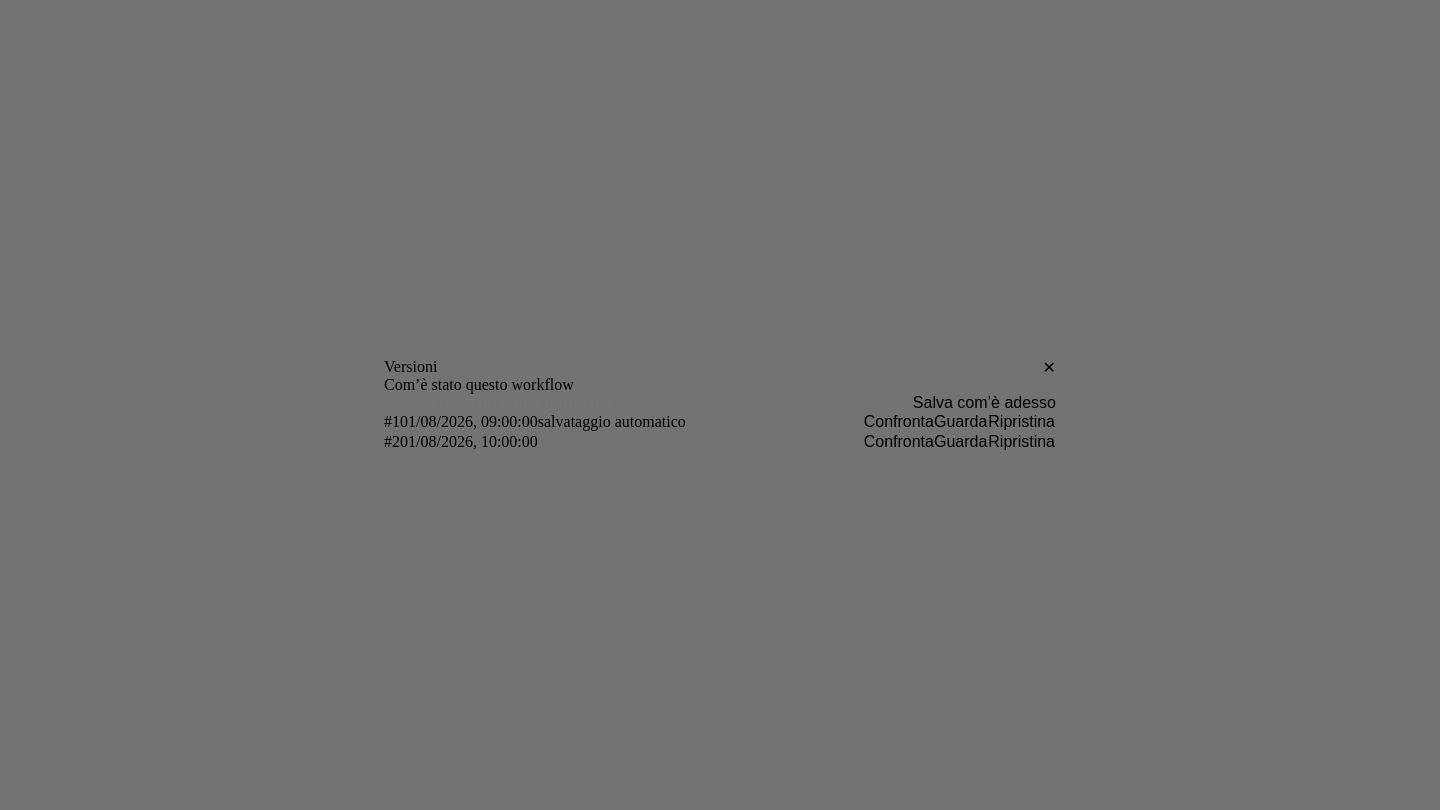
il confronto fra versioni › due versioni identiche lo dicono, invece di mostrare tre righe vuote
Click the button "Confronta" in the row of "01/08/2026, 09:00:00": (899,422) left=864, top=412, right=934, bottom=432
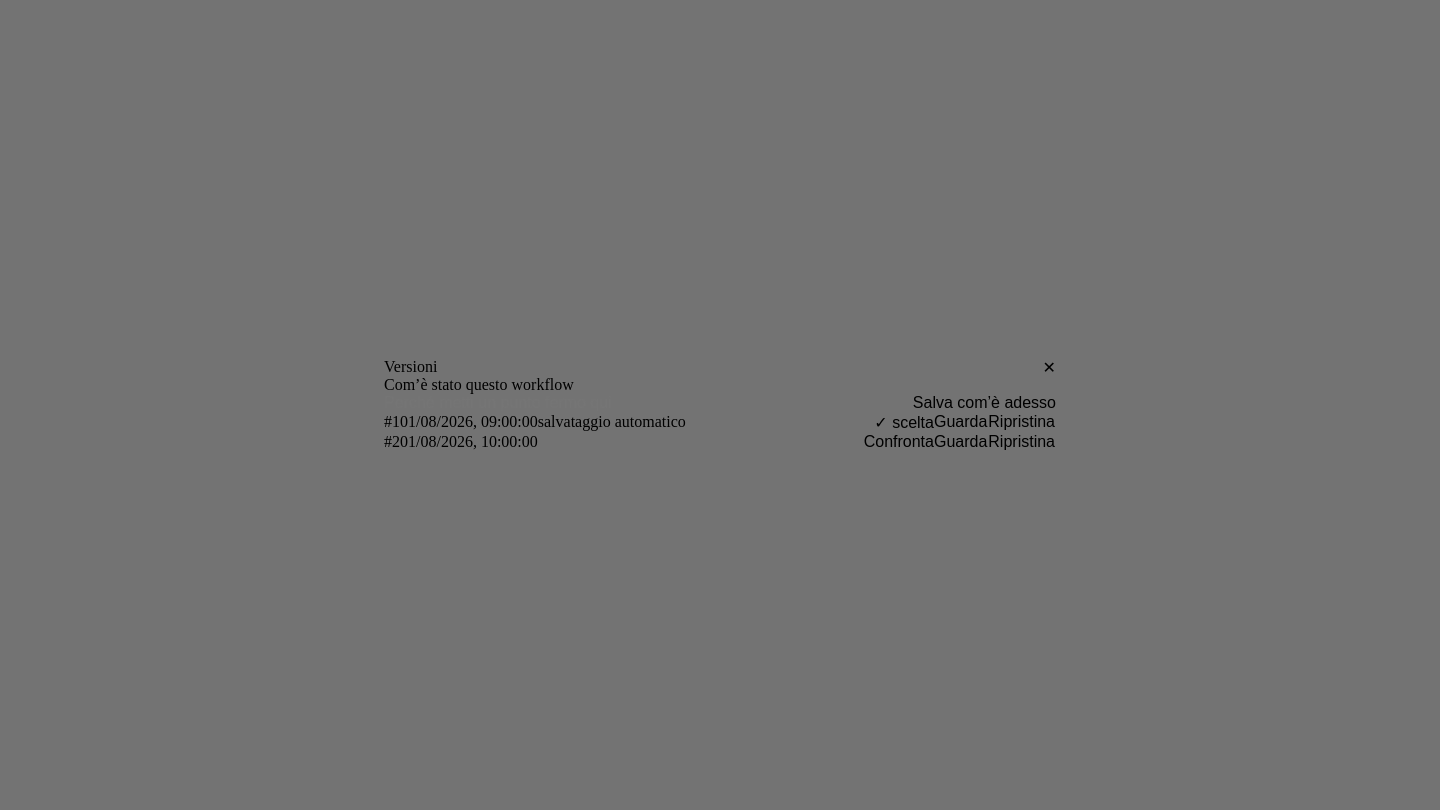
Click the button "Confronta": (899,442) left=864, top=432, right=934, bottom=452
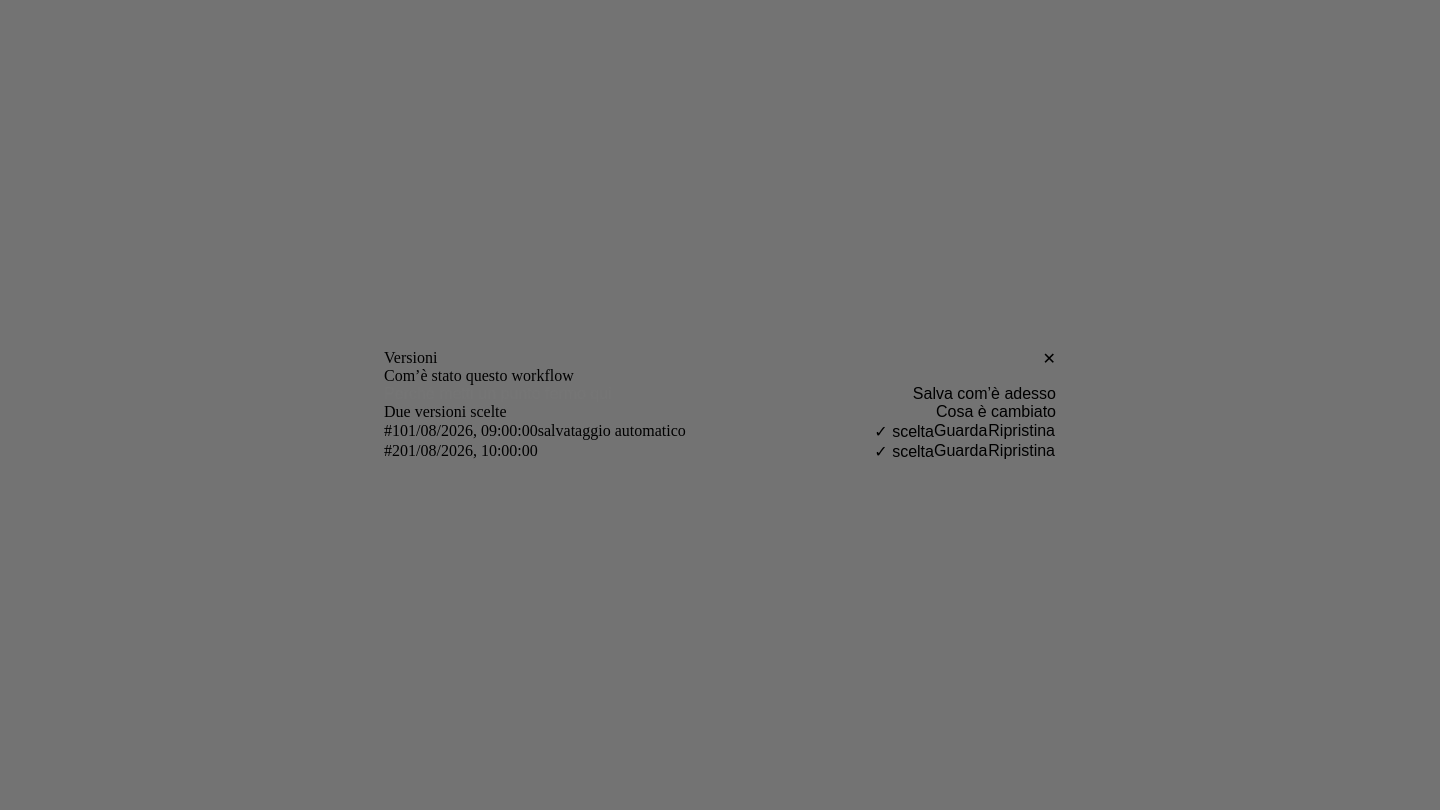
Click the button "Cosa è cambiato": (996,412) left=936, top=403, right=1056, bottom=421
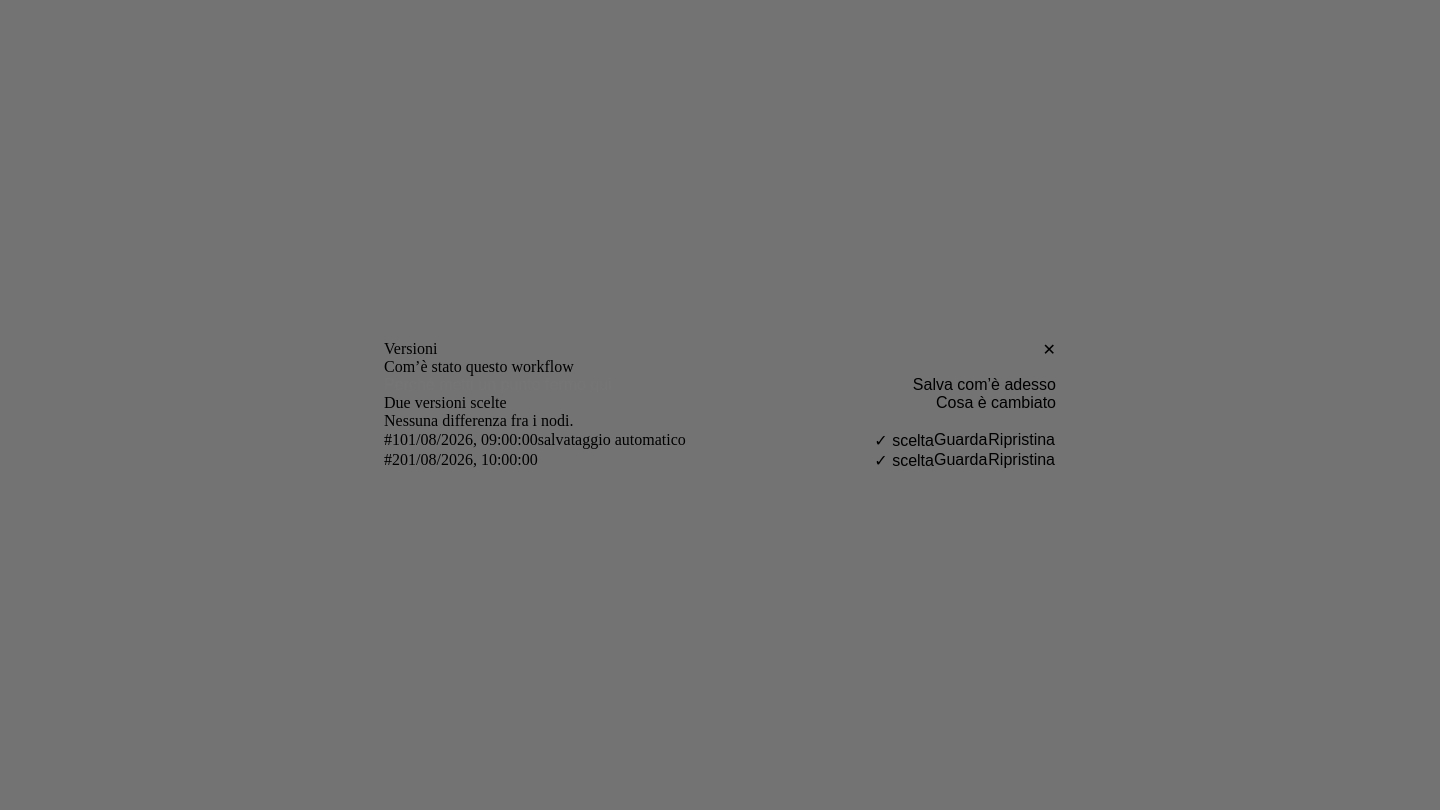
Now the text "Nessuna differenza fra i nodi." is shown, box left=384, top=412, right=573, bottom=429
